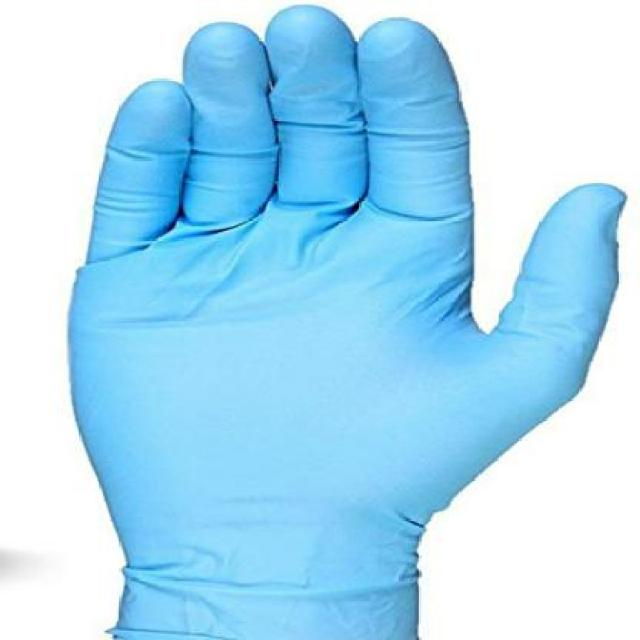glove: (60, 6, 631, 637)
